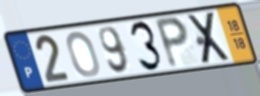2: (36, 32, 74, 86)
3: (127, 19, 164, 73)
9: (98, 25, 132, 75)
O: (65, 30, 102, 79)
P: (153, 15, 191, 71)
X: (186, 9, 233, 67)
